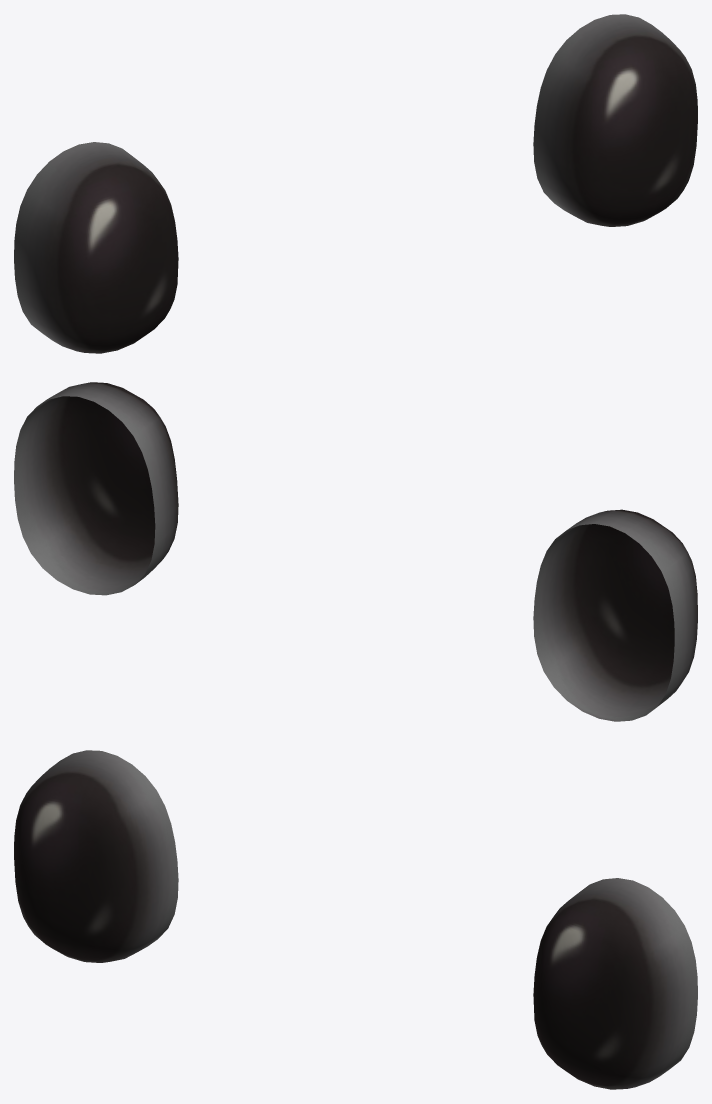
File: eye0.glb
The picture shows the model from 3 angles, top to bottom: view 1: azimuth 30°, elevation 25°; view 2: azimuth 150°, elevation 25°; view 3: azimuth 330°, elevation 25°; orthographic projection.
Visible parts, largest first — view 1: eyes.000; view 2: eyes.000; view 3: eyes.000.
Boxes of the visible parts, x1=… form: eyes.000: x1=14, y1=14, x2=697, y2=353; eyes.000: x1=14, y1=382, x2=697, y2=721; eyes.000: x1=14, y1=750, x2=697, y2=1089.
Size of the model in its own units: 0.6216 by 0.1752 by 0.0676.
Materials: 1 (1 with a texture image).
